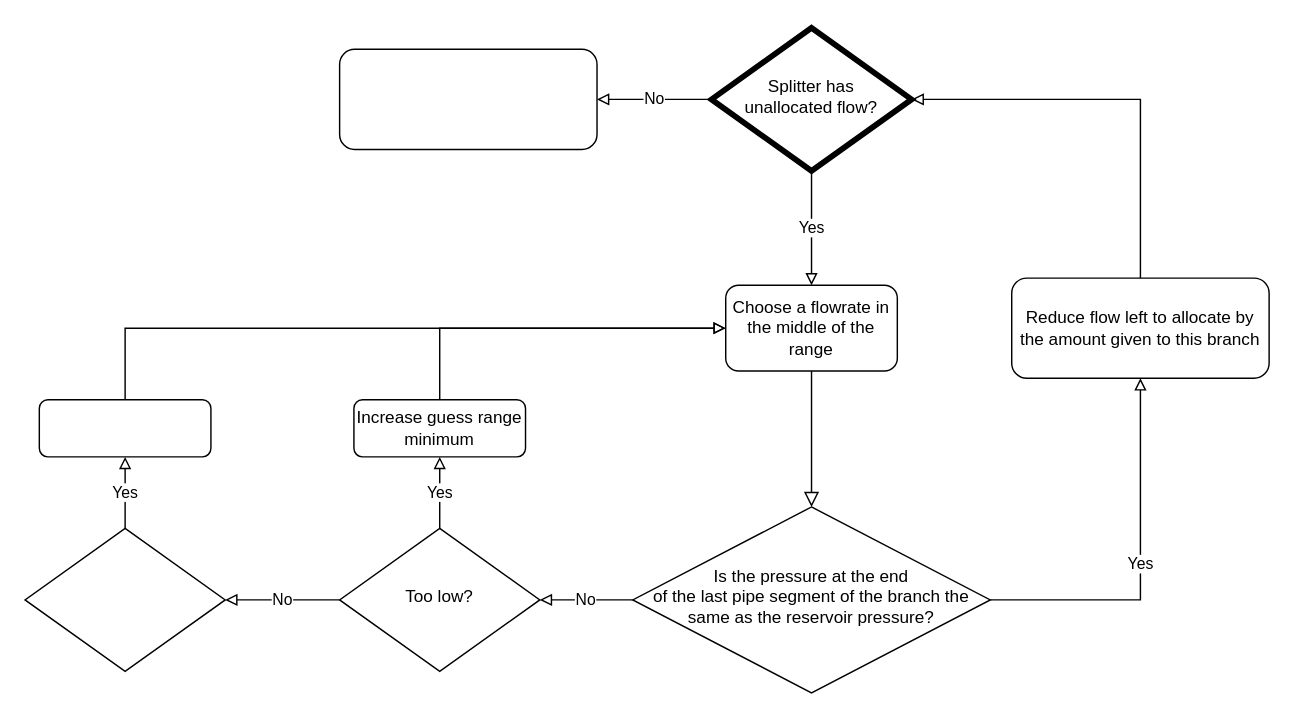
This 1294x718 diagram has some shape labels left out. Each missing label, with the box of its shape:
End. Return the result from the final branch.: (338, 48, 597, 149)
Reduce guess range maximum: (38, 398, 211, 457)
Too high?: (24, 527, 225, 671)
